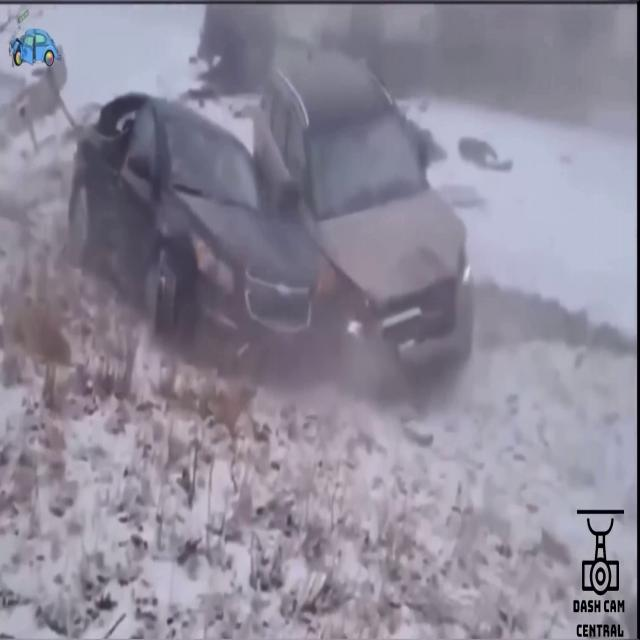accident: (72, 47, 480, 400)
